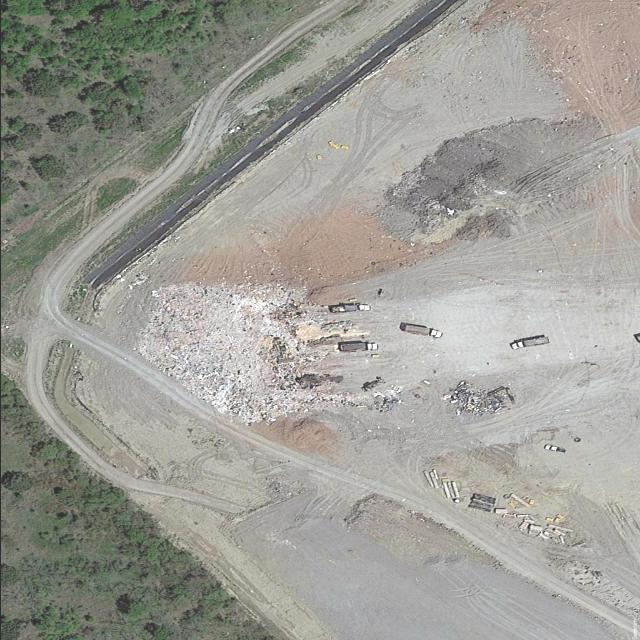dump_site: (111, 251, 393, 445), (435, 377, 517, 423)
